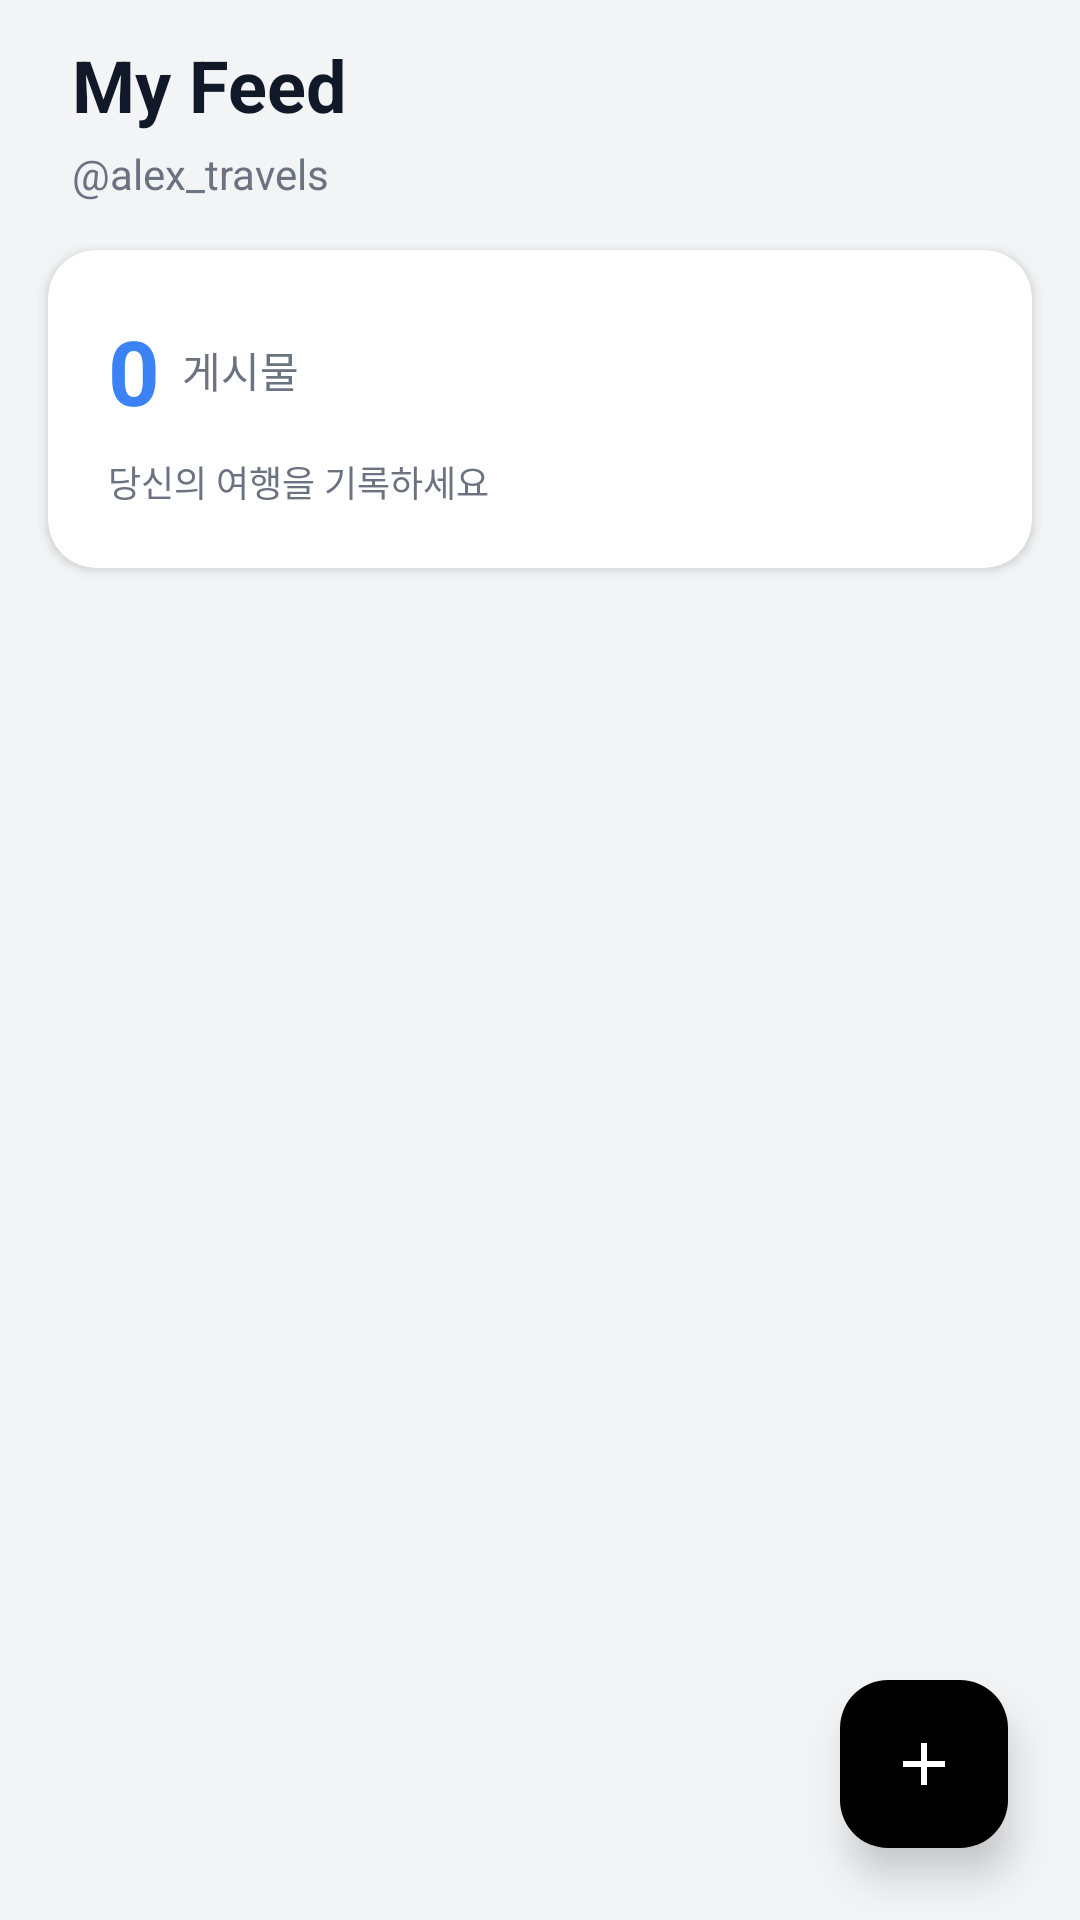

Icon bounding boxes for this 1080w x 1920h phone screenshot, format (x1, y1, x2, y2):
게시물 작성: (840, 1680, 1008, 1848)
